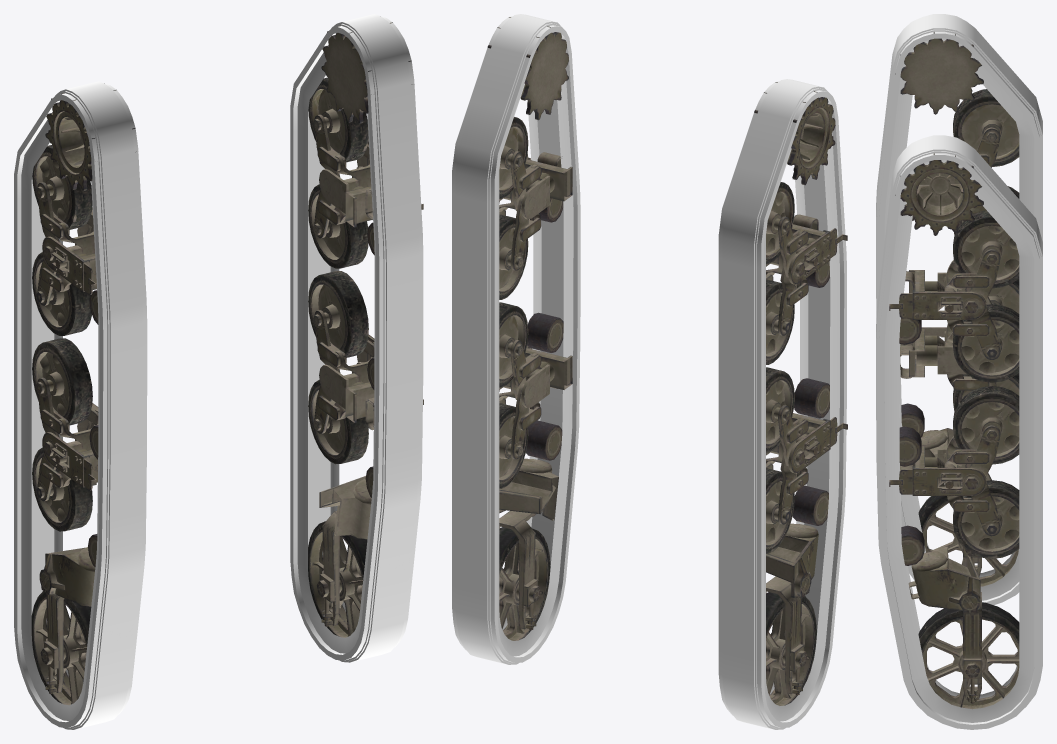
Rendered from Chassis.glb.
3 views of the same model, side by side, from view 1: azimuth 30°, elevation 25°; view 2: azimuth 150°, elevation 25°; view 3: azimuth 270°, elevation 25° (orthographic). The views are drawn at different scales.
Parts seen in each view (by area): view 1: set_1_group_0, set_0_group_0, set_3_group_0, set_2_group_0; view 2: set_1_group_0, set_0_group_0, set_2_group_0, set_3_group_0; view 3: set_2_group_0, set_1_group_0, set_3_group_0, set_0_group_0.
Part boxes in pixels (x1,y1,x2,y2): set_1_group_0: (290, 14, 423, 662); set_0_group_0: (14, 81, 147, 729); set_3_group_0: (31, 83, 136, 705); set_2_group_0: (308, 22, 423, 637); set_1_group_0: (452, 14, 580, 664); set_0_group_0: (718, 79, 846, 729); set_2_group_0: (487, 17, 572, 640); set_3_group_0: (754, 82, 847, 705); set_2_group_0: (889, 153, 1019, 709); set_1_group_0: (876, 135, 1042, 729); set_3_group_0: (895, 32, 1019, 586); set_0_group_0: (876, 14, 1042, 605).
Bounding box in the file's own units: 2.26 × 4.15 × 1.08.
4 materials, 2 textured.
